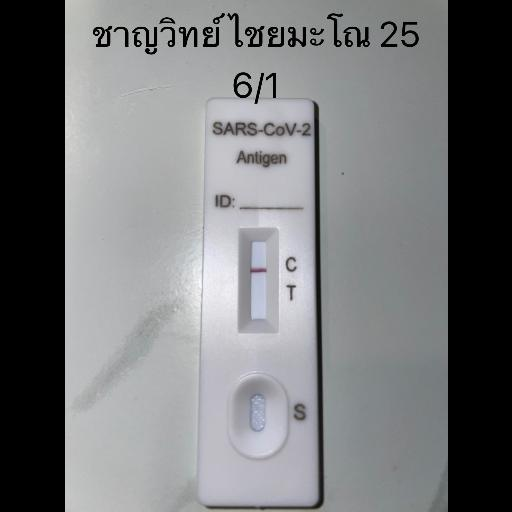Neg: (200, 98, 320, 506)
